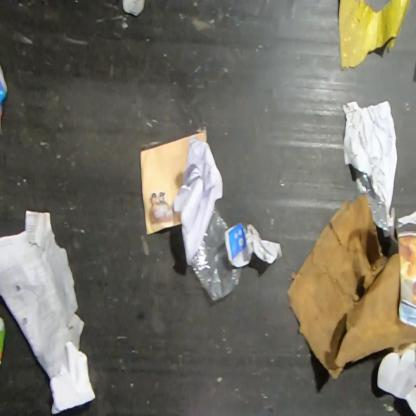cardboard: (376, 348, 415, 415), (0, 61, 10, 107), (121, 0, 146, 17), (0, 315, 8, 364)
soft_plastic: (191, 206, 244, 302), (355, 168, 391, 233)
